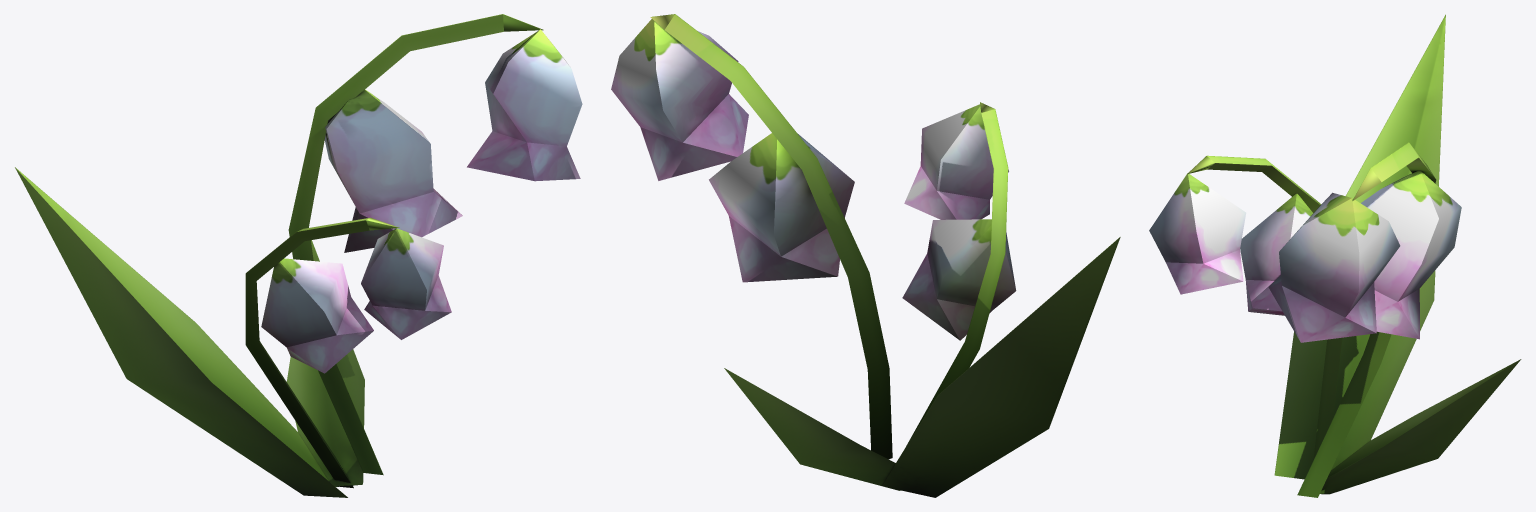
Rendered from Fllower_02.fbx.
The picture shows the model from 3 angles, left to right: view 1: azimuth 30°, elevation 25°; view 2: azimuth 150°, elevation 25°; view 3: azimuth 270°, elevation 25°; orthographic projection. The views are drawn at different scales.
Parts seen in each view (by area): view 1: Fllower_B3; view 2: Fllower_B3; view 3: Fllower_B3.
Boxes of the visible parts, x1,y1,x2,y2 form: Fllower_B3: [15, 14, 582, 497]; Fllower_B3: [611, 14, 1120, 497]; Fllower_B3: [1149, 14, 1521, 497].
Bounding box in the file's own units: 7.5 × 5.72 × 4.59.
1 material, 1 textured.
